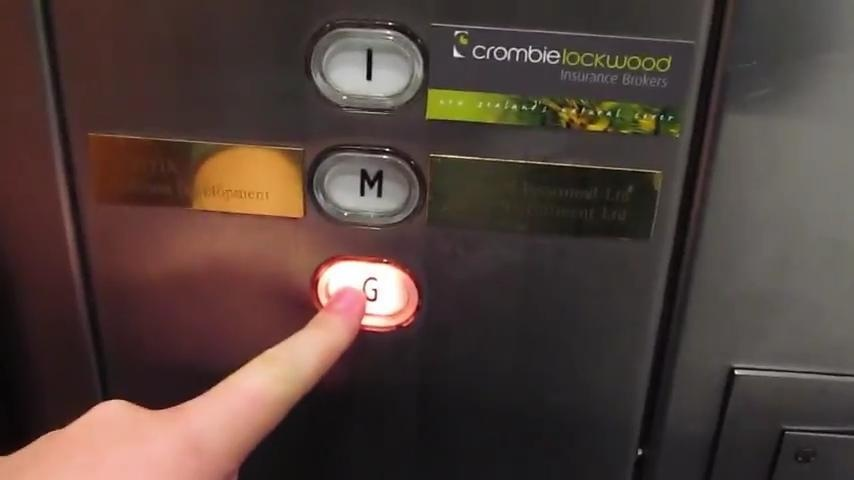1: (300, 13, 429, 116)
G: (301, 251, 423, 335)
M: (306, 141, 428, 225)
